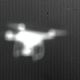plane: (4, 20, 68, 62)
